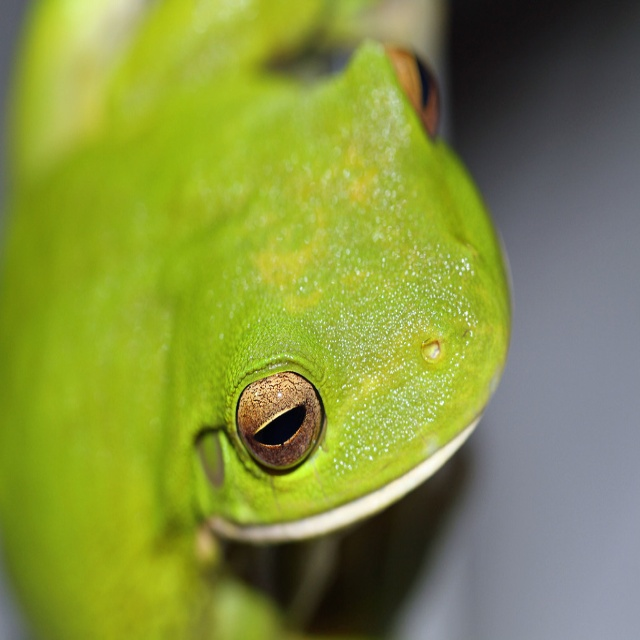Frog: (0, 0, 518, 639)
